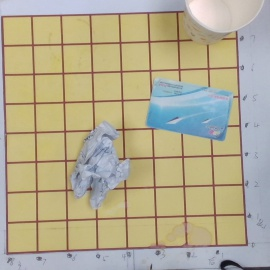card: (145, 77, 233, 144)
cup: (172, 1, 263, 55)
